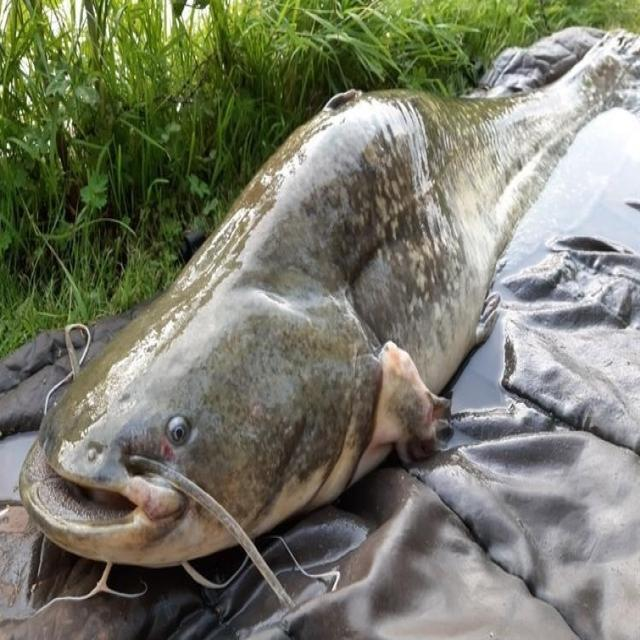Catfish: (16, 40, 620, 638)
